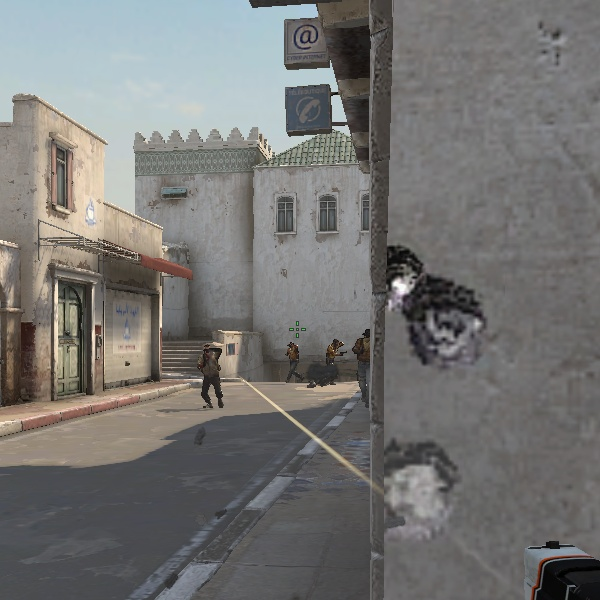t_body: (197, 343, 223, 408), (353, 329, 369, 410), (322, 339, 344, 384), (284, 341, 303, 383)
t_head: (203, 344, 212, 357), (363, 329, 370, 342), (332, 339, 339, 349), (290, 342, 295, 346)
